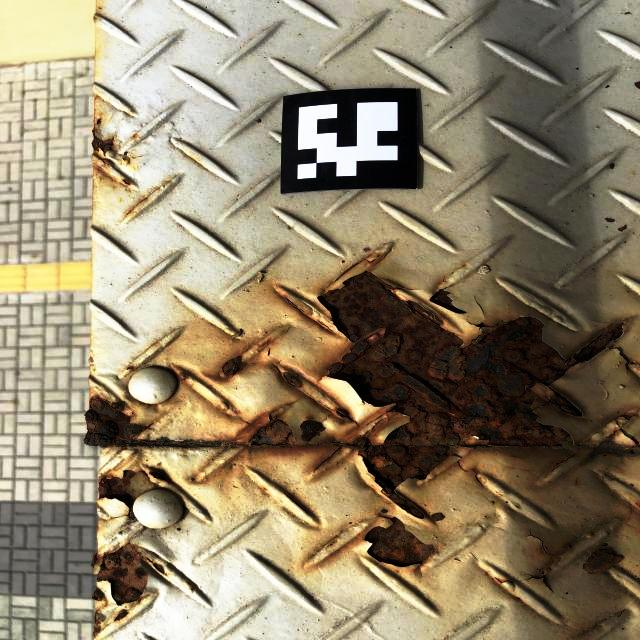Corrosion: (310, 252, 640, 521), (84, 394, 297, 454), (91, 542, 168, 638), (362, 511, 440, 569), (97, 469, 174, 521), (521, 531, 569, 593), (91, 108, 136, 168), (279, 294, 337, 335), (308, 395, 357, 423), (424, 286, 469, 315), (492, 573, 522, 602), (218, 354, 253, 378), (275, 369, 307, 390), (615, 348, 638, 373), (127, 195, 153, 216), (325, 540, 338, 551), (121, 178, 131, 186)
